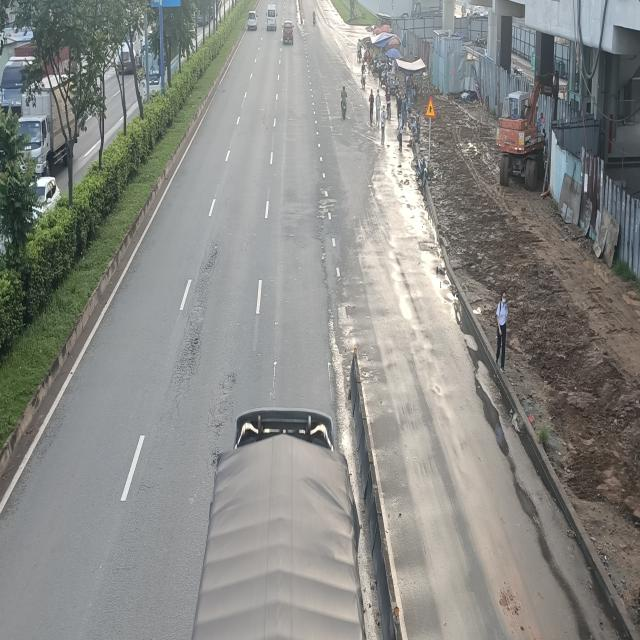car: (282, 22, 294, 46), (247, 8, 258, 30)
van: (266, 2, 278, 30)
